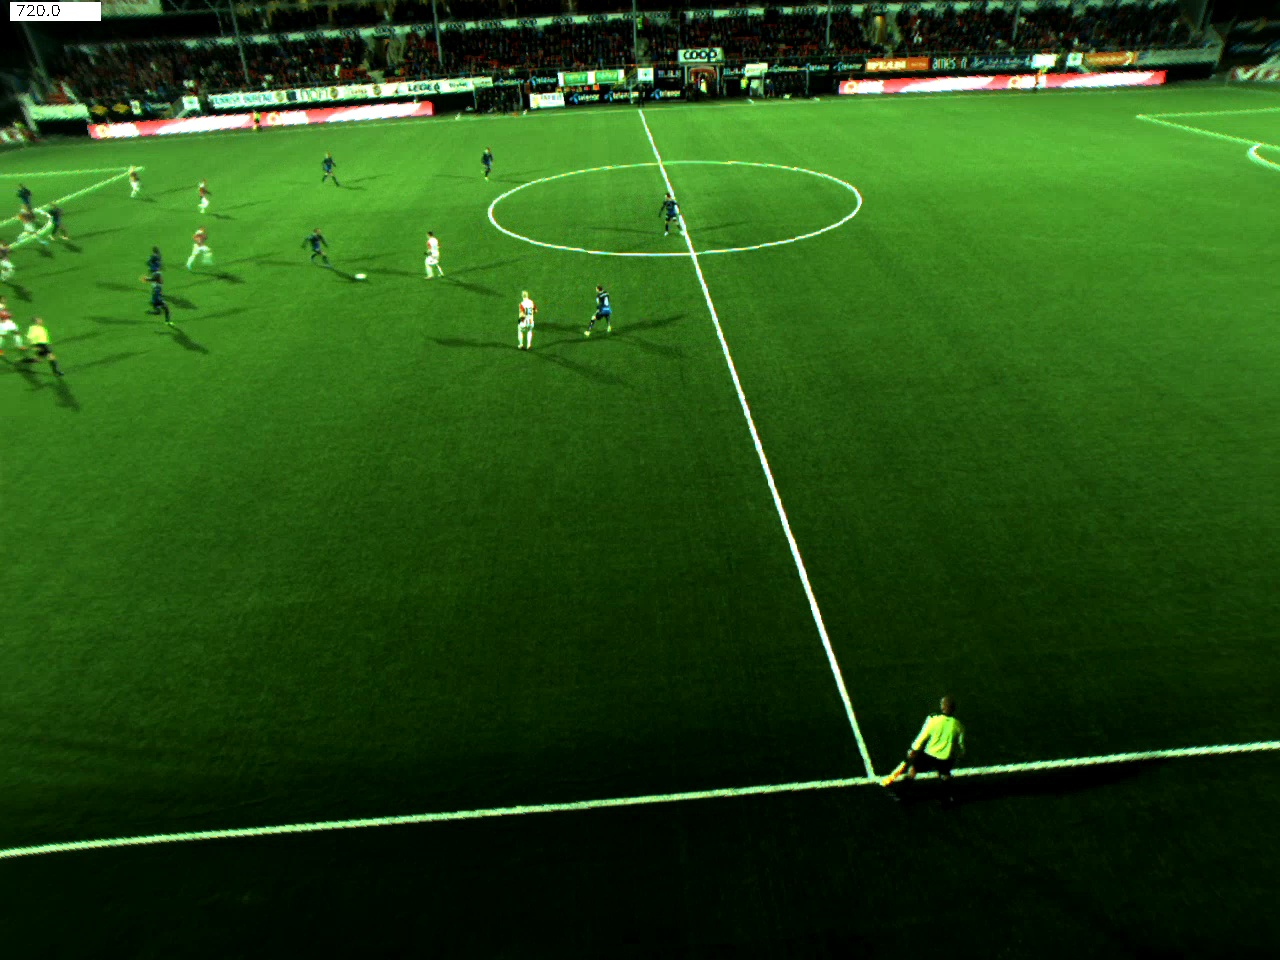blue: (649, 182, 689, 242), (587, 280, 617, 344), (148, 274, 180, 323), (301, 223, 334, 270), (139, 241, 163, 294), (10, 174, 39, 212), (42, 198, 63, 246), (474, 139, 499, 179), (317, 148, 342, 185)
red: (177, 223, 219, 273), (414, 224, 447, 282), (508, 289, 535, 357), (1, 306, 28, 370), (12, 207, 45, 250), (189, 175, 223, 212), (123, 160, 145, 199), (1, 247, 16, 291)
yellow: (884, 688, 964, 800), (20, 313, 69, 381)
